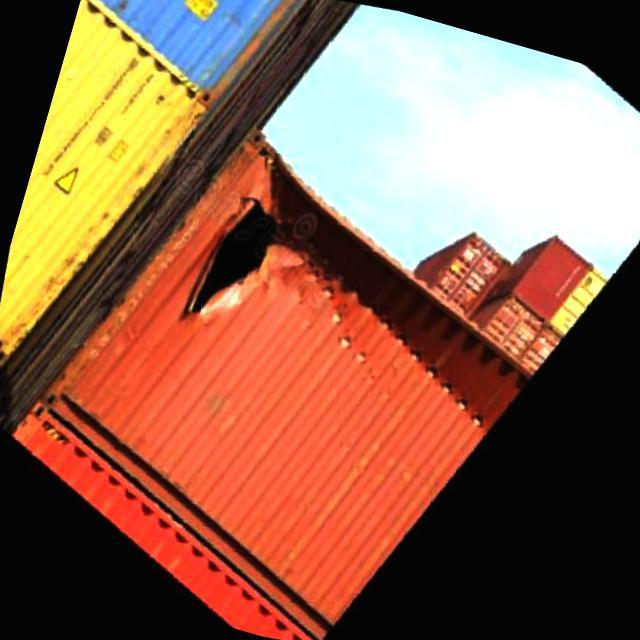hole: (156, 149, 326, 357)
